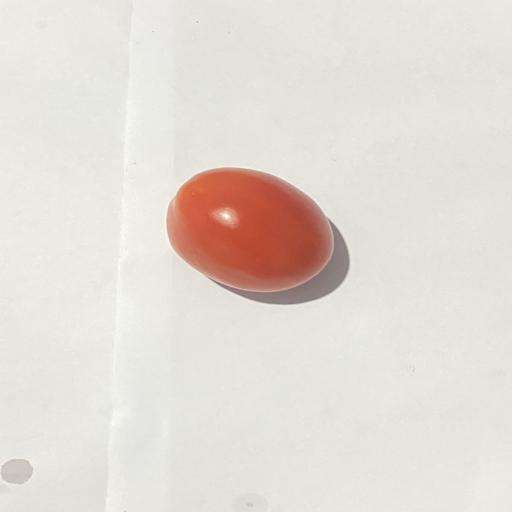ripe: (167, 168, 334, 292), (209, 207, 240, 228)
